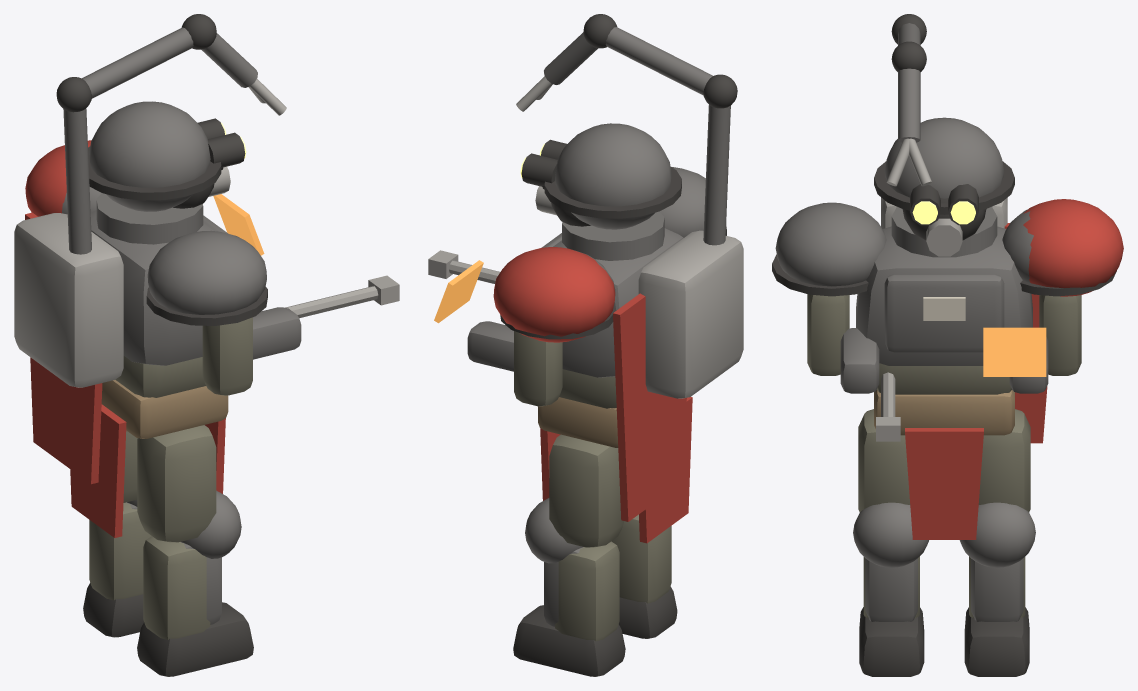
Rendered from hum_engenheiro.glb.
The picture shows the model from 3 angles, left to right: view 1: azimuth 30°, elevation 25°; view 2: azimuth 150°, elevation 25°; view 3: azimuth 270°, elevation 25°; orthographic projection. The views are drawn at different scales.
Parts seen in each view (by area): view 1: torso_m, knee_r_m, leg_r_m, knee_l_m, leg_l_m; view 2: torso_m, knee_l_m, leg_l_m, knee_r_m; view 3: torso_m, knee_l_m, knee_r_m, leg_l_m, leg_r_m.
Boxes of the visible parts, x1,y1,x2,y2 form: torso_m: (14, 14, 399, 537); knee_r_m: (137, 490, 253, 676); leg_r_m: (137, 425, 216, 542); knee_l_m: (83, 500, 151, 637); leg_l_m: (123, 430, 137, 502); torso_m: (428, 14, 743, 543); knee_l_m: (513, 498, 625, 676); leg_l_m: (549, 434, 624, 547); knee_r_m: (611, 514, 677, 638); torso_m: (772, 14, 1123, 539); knee_l_m: (959, 502, 1035, 676); knee_r_m: (853, 502, 928, 676); leg_l_m: (978, 409, 1030, 512); leg_r_m: (858, 409, 910, 512).
Bounding box in the file's own units: 0.52 × 0.975 × 0.5.
